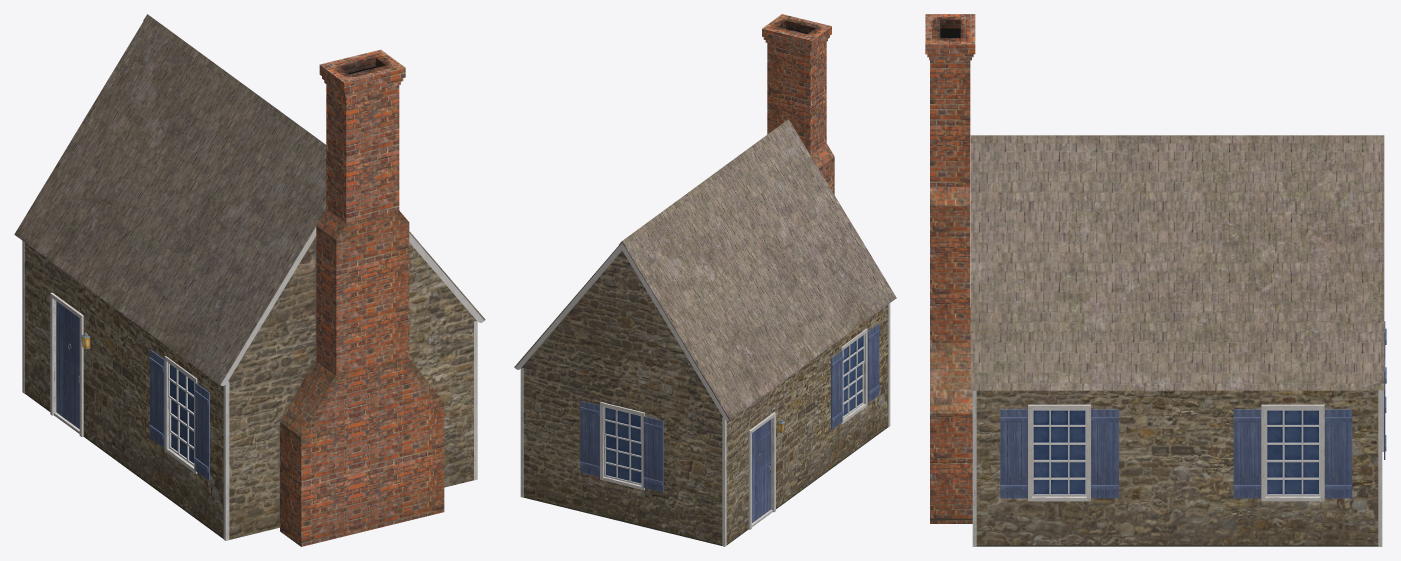
File: StoneHouse.fbx
3 views of the same model, side by side, from view 1: azimuth 30°, elevation 25°; view 2: azimuth 150°, elevation 25°; view 3: azimuth 270°, elevation 25° (orthographic). The views are drawn at different scales.
Parts seen in each view (by area): view 1: Stone House, Door; view 2: Stone House, Door, Floor; view 3: Stone House, Floor.
Part boxes in pixels (x1,y1,x2,y2): Stone House: [14, 14, 485, 546]; Door: [56, 301, 79, 428]; Stone House: [514, 14, 896, 546]; Door: [752, 419, 770, 522]; Floor: [523, 426, 888, 545]; Stone House: [925, 14, 1386, 546]; Floor: [930, 518, 1378, 546].
Bounding box in the file's own units: 568 × 929 × 845.
4 materials, 3 textured.
